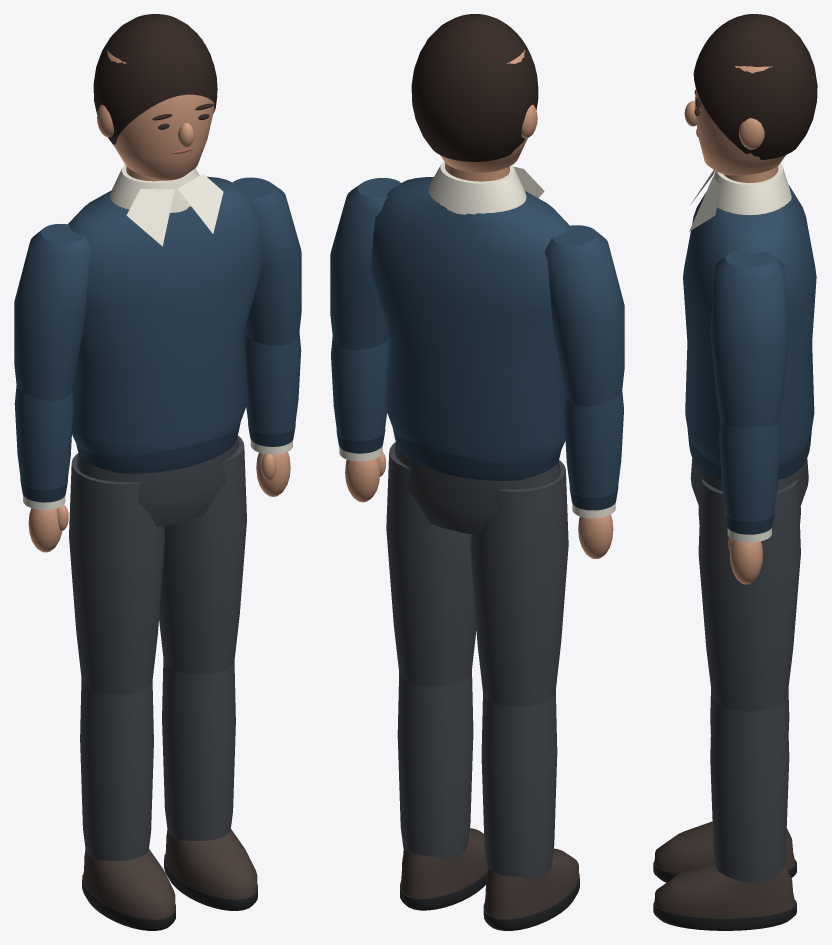
File: knit-man.glb
The picture shows the model from 3 angles, left to right: view 1: azimuth 30°, elevation 25°; view 2: azimuth 150°, elevation 25°; view 3: azimuth 270°, elevation 25°; orthographic projection. The views are drawn at different scales.
Visible parts, largest first — view 1: pullover, trouser thigh, trouser thigh.001, trouser calf.001, trouser calf, sweater sleeve, parted hair, sweater sleeve.001, face, hip, forearm sleeve, forearm sleeve.001 (+12 smaller); view 2: pullover, trouser thigh, parted hair, trouser thigh.001, trouser calf, trouser calf.001, sweater sleeve, sweater sleeve.001, hip, forearm sleeve, forearm sleeve.001, shoe leather (+10 smaller); view 3: pullover, trouser thigh.001, trouser calf.001, parted hair, sweater sleeve.001, shoe leather.001, forearm sleeve.001, face, shirt collar stand, shoe leather, shoe sole.001, hand.001 (+7 smaller).
Part boxes in pixels (x1,y1,x2,y2): pullover: (68, 176, 262, 457); trouser thigh: (69, 453, 164, 694); trouser thigh.001: (159, 436, 246, 674); trouser calf.001: (162, 659, 235, 840); trouser calf: (80, 678, 153, 860); sweater sleeve: (14, 224, 92, 400); parted hair: (93, 14, 217, 145); sweater sleeve.001: (232, 177, 301, 345); face: (107, 37, 214, 180); hip: (76, 435, 239, 526); forearm sleeve: (14, 385, 73, 489); forearm sleeve.001: (244, 332, 301, 433); pullover: (370, 177, 569, 464); trouser thigh: (470, 460, 568, 706); parted hair: (411, 14, 538, 161); trouser thigh.001: (386, 442, 476, 686); trouser calf: (481, 690, 557, 879); trouser calf.001: (397, 671, 473, 859); sweater sleeve: (544, 225, 624, 406); sweater sleeve.001: (330, 178, 400, 349); hip: (394, 441, 560, 535); forearm sleeve: (564, 391, 623, 497); forearm sleeve.001: (331, 336, 388, 440); shoe leather: (484, 848, 578, 918); pullover: (683, 185, 816, 465); trouser thigh.001: (698, 479, 800, 711); trouser calf.001: (710, 696, 789, 882); parted hair: (693, 14, 817, 159); sweater sleeve.001: (710, 251, 789, 427); shoe leather.001: (654, 861, 795, 918); forearm sleeve.001: (719, 421, 780, 521); face: (694, 66, 785, 175); shirt collar stand: (713, 163, 791, 215); shoe leather: (654, 821, 795, 874); shoe sole.001: (653, 900, 796, 930); hand.001: (729, 539, 762, 584).
Size of the model in its own units: 0.584 by 1.74 by 0.2947.
